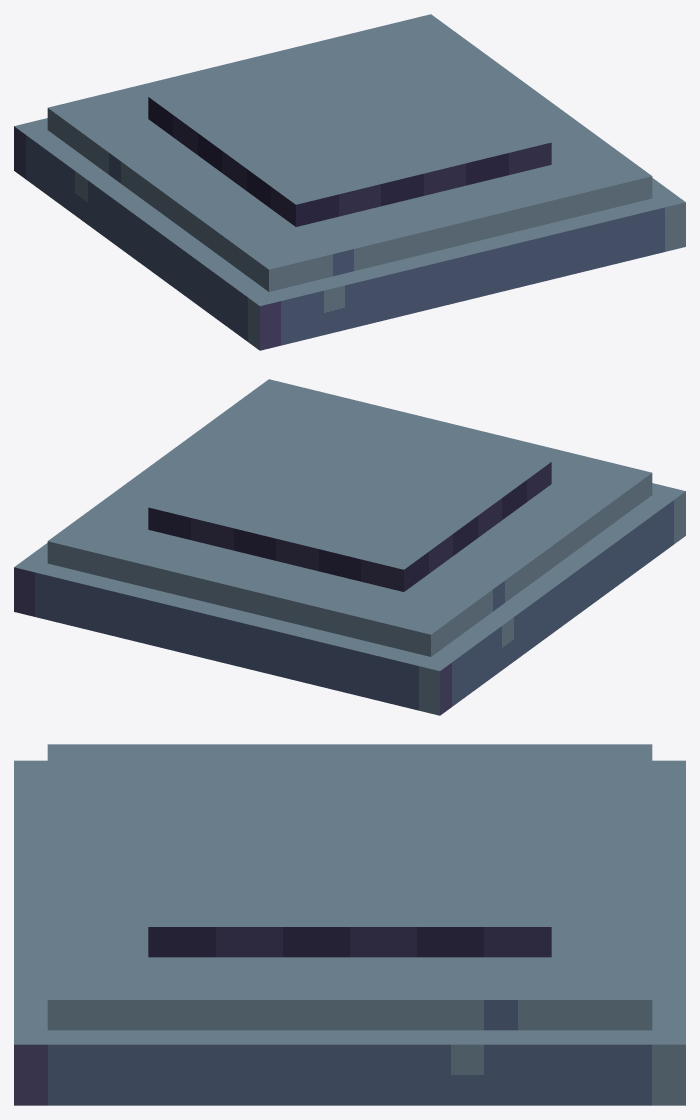
The model's file is timeswitch_baseao.fezao.glb.
The picture shows the model from 3 angles, top to bottom: view 1: azimuth 30°, elevation 25°; view 2: azimuth 150°, elevation 25°; view 3: azimuth 270°, elevation 25°; orthographic projection. The views are drawn at different scales.
Visible parts, largest first — view 1: TIMESWITCH_BASEAO; view 2: TIMESWITCH_BASEAO; view 3: TIMESWITCH_BASEAO.
Part boxes in pixels (<box>): TIMESWITCH_BASEAO: <box>14,14,685,350</box>; TIMESWITCH_BASEAO: <box>14,379,685,715</box>; TIMESWITCH_BASEAO: <box>14,744,685,1105</box>.
Size of the model in its own units: 1.25 by 0.25 by 1.25.
1 material, 1 textured.
